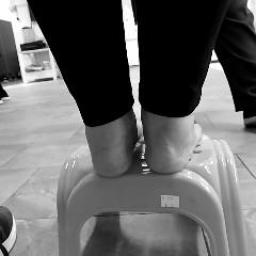Back View -Both Feet-: (63, 83, 211, 190)
